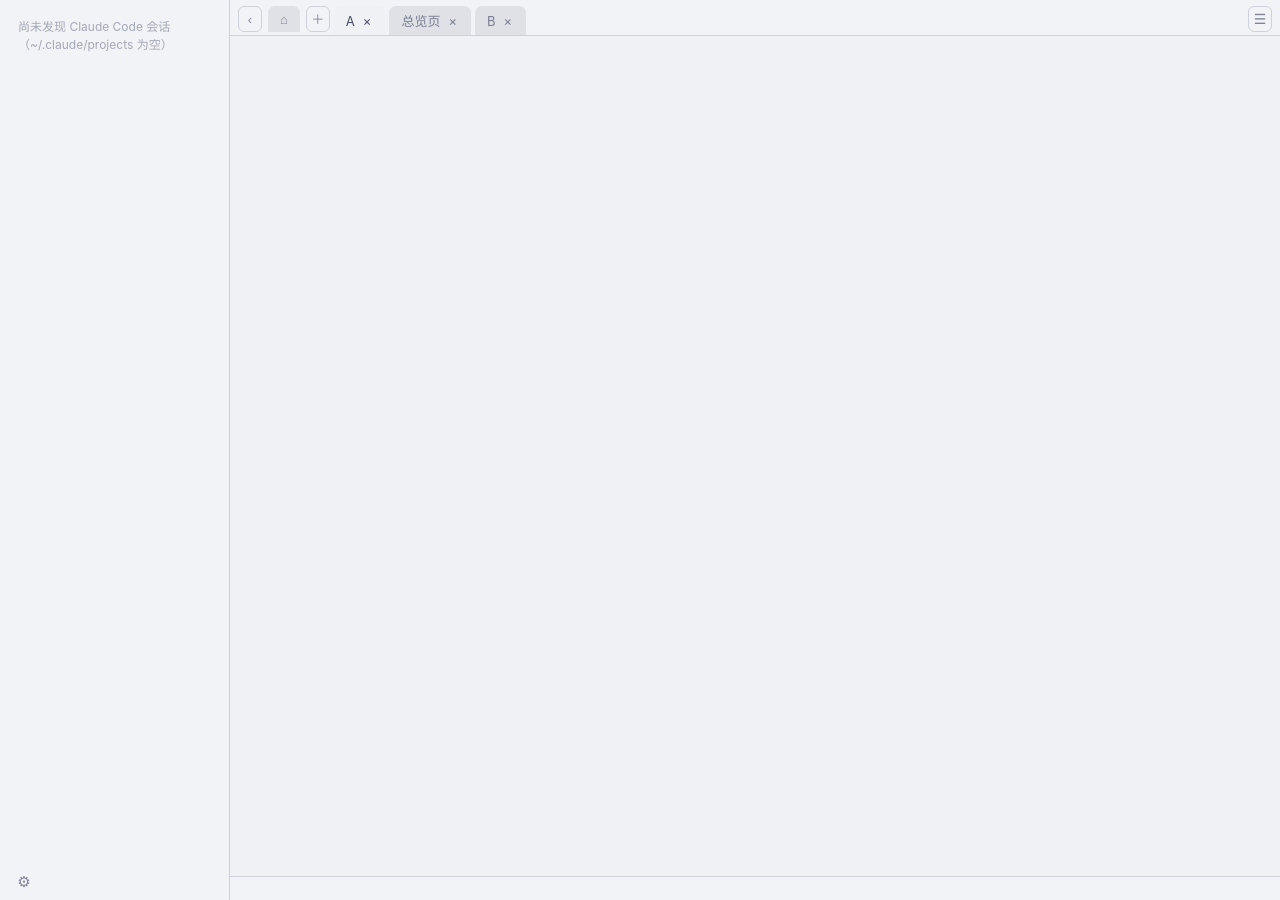
Test: TabBar — 标签拖出窗口边界（V3.3 设计文档 §4.1） › term 标签移出窗口边界仍然照常进入 tearOut 状态（M5 的收紧只针对总览标签）
The image size is (1280, 900).
Press the mouse on the text "B": (501, 20) [475,6,526,35]
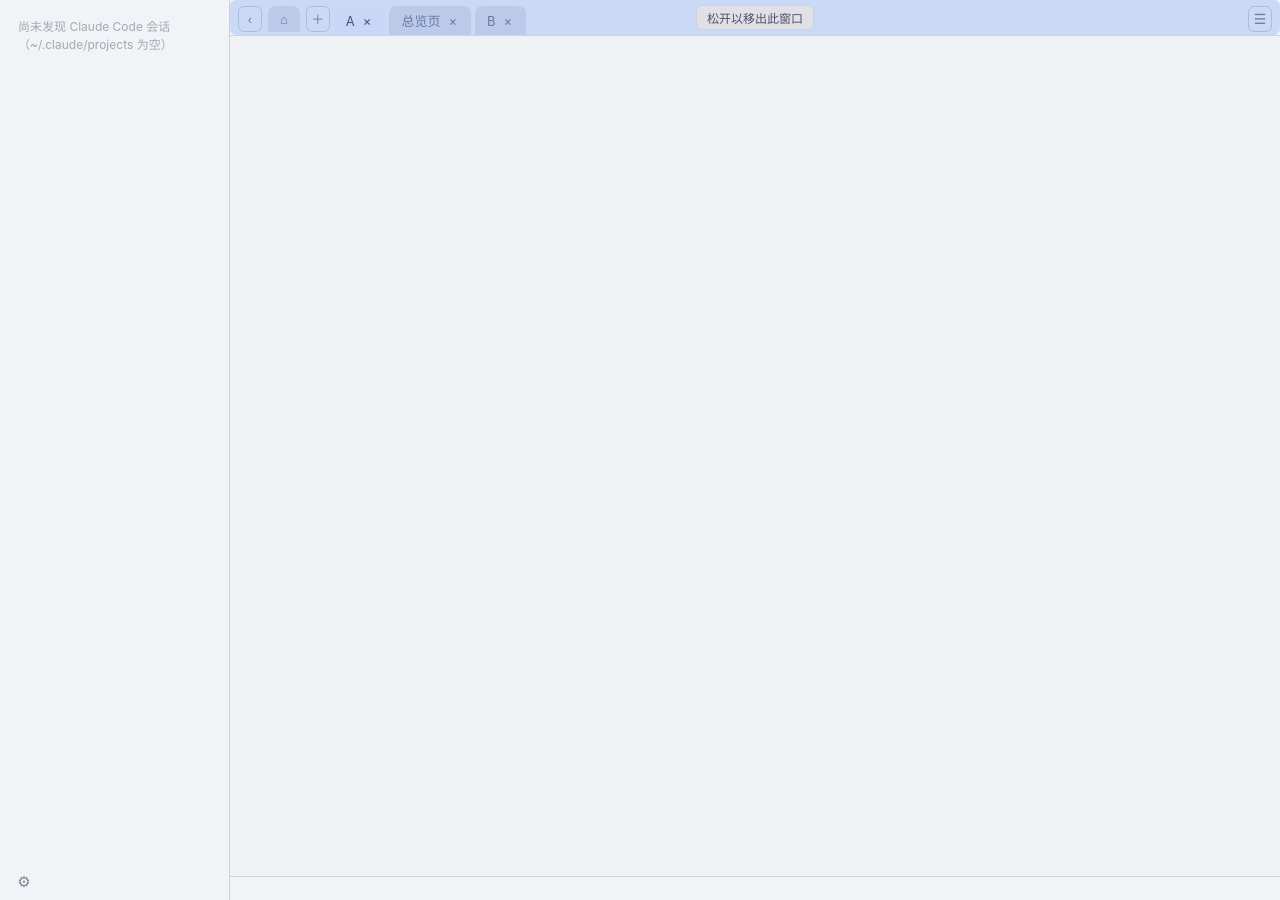
Check: the element with class "tabbar-tear-out" is shown, box [696,5,814,30]
